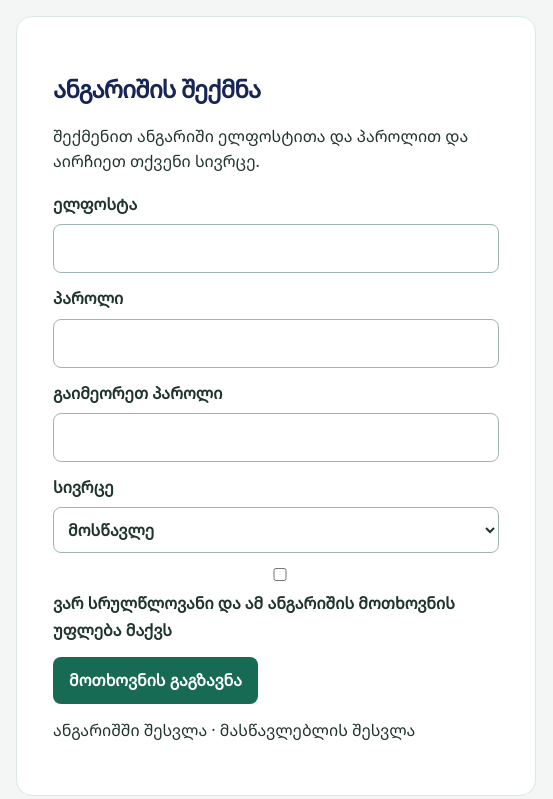
Test: never sends a signup until the adult confirmation and matching passwords are present
Type "adult@example.test" into the field labelled "ელფოსტა". click: (276,249)
box: left=53, top=224, right=499, bottom=273
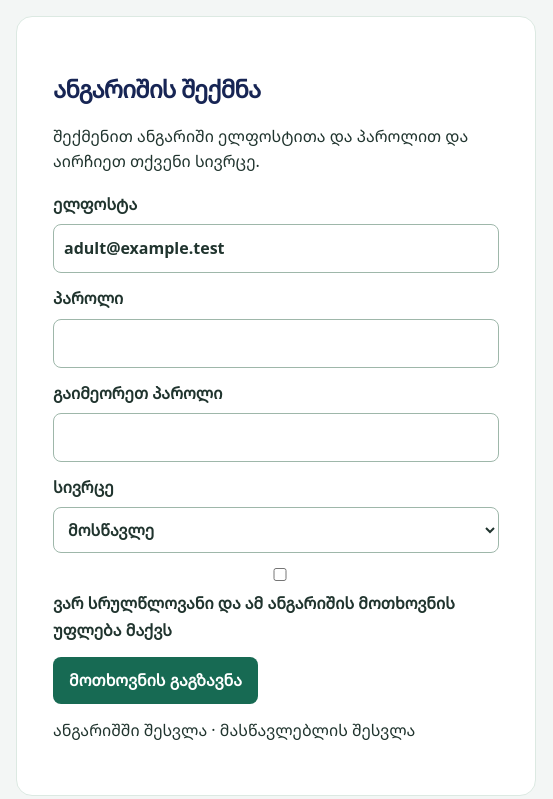
Type "long-password" into the password field labelled "პაროლი". click: (276,343)
box: left=53, top=318, right=499, bottom=368
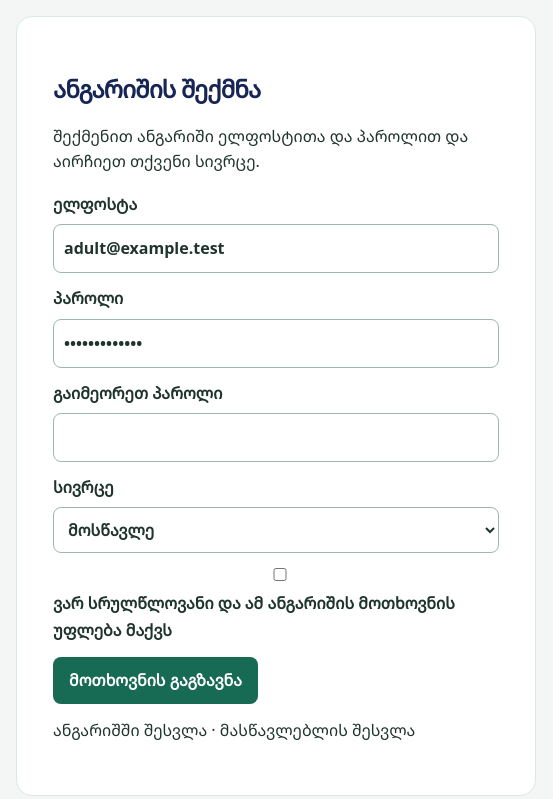
Type "long-password" into the password field labelled "გაიმეორეთ პაროლი". click: (276,438)
box: left=53, top=413, right=499, bottom=462
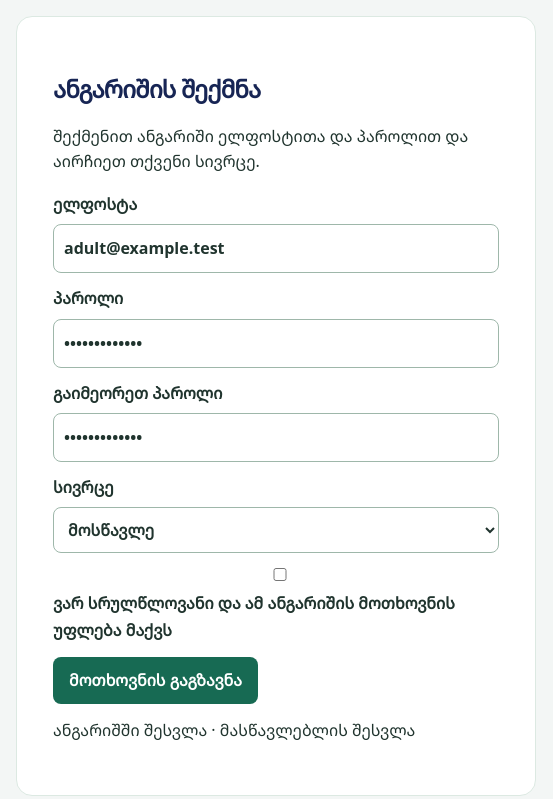
Submit the text "მოთხოვნის გაგზავნა", box left=53, top=191, right=499, bottom=704
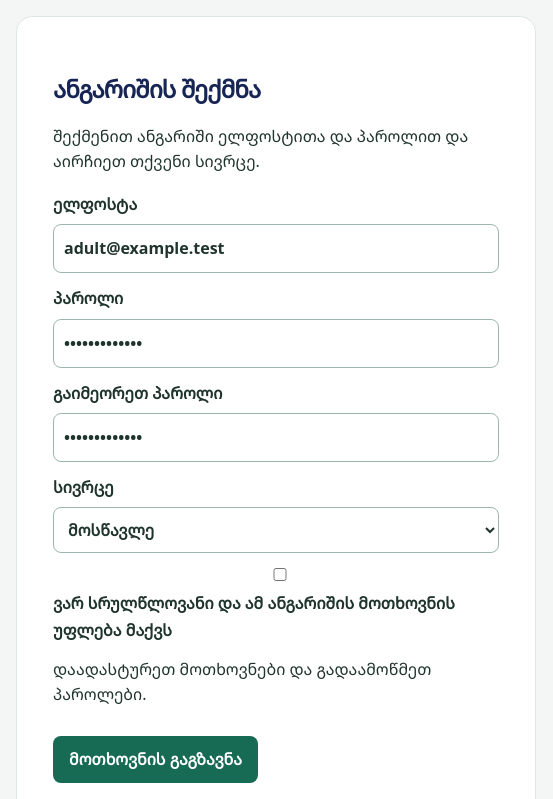
Click the checkbox labelled "ვარ სრულწლოვანი და ამ ანგარიშის მოთხოვნის უფლება მაქვს". click: (280,575)
box: left=57, top=568, right=503, bottom=581
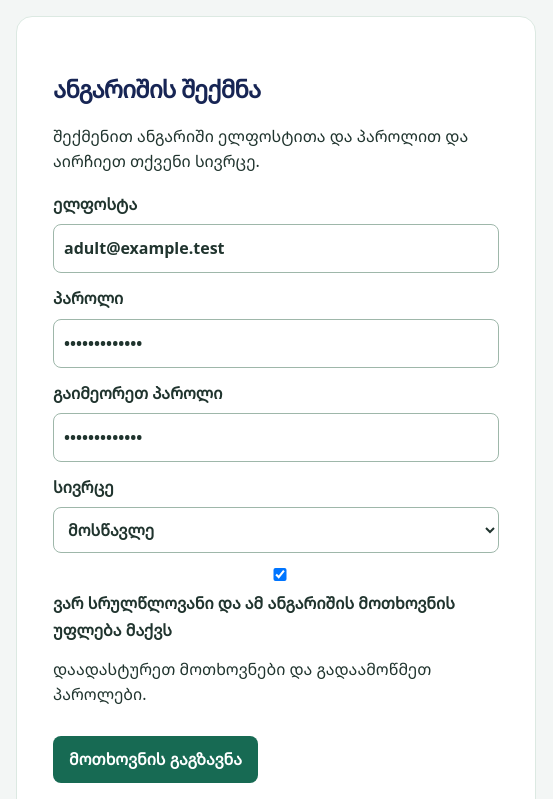
Click the button "მოთხოვნის გაგზავნა". click: (155,760)
box: left=53, top=736, right=258, bottom=783
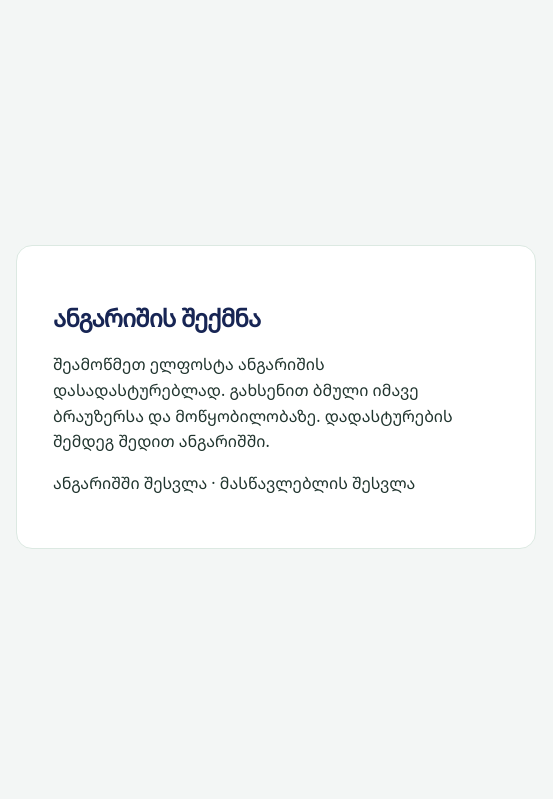
Expected: the message is shown, left=53, top=352, right=499, bottom=455
